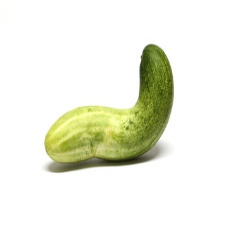cucumber: (43, 43, 177, 165)
